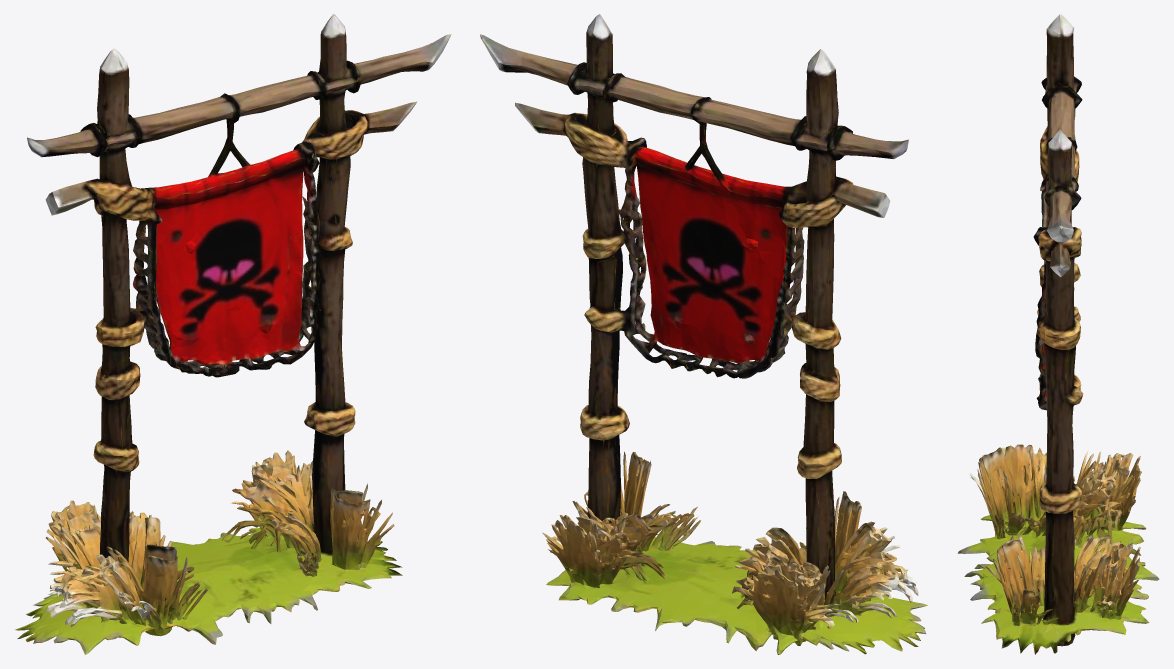
File: ogre_banner_01.glb
The picture shows the model from 3 angles, left to right: view 1: azimuth 30°, elevation 25°; view 2: azimuth 150°, elevation 25°; view 3: azimuth 270°, elevation 25°; orthographic projection. The views are drawn at different scales.
Parts seen in each view (by area): view 1: geometry_0; view 2: geometry_0; view 3: geometry_0.
Part boxes in pixels (<box>): geometry_0: <box>15,14,451,654</box>; geometry_0: <box>480,14,927,654</box>; geometry_0: <box>957,14,1159,654</box>.
Bounding box in the file's own units: 0.7862 × 1 × 0.3459.
Materials: 1 (1 with a texture image).
